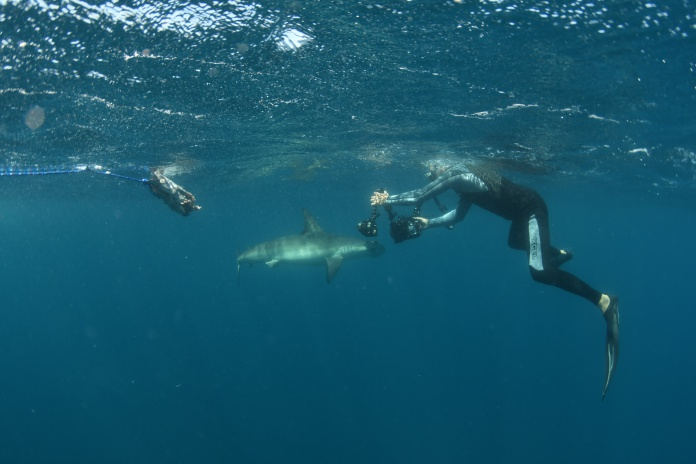Hammer: (224, 203, 404, 296)
